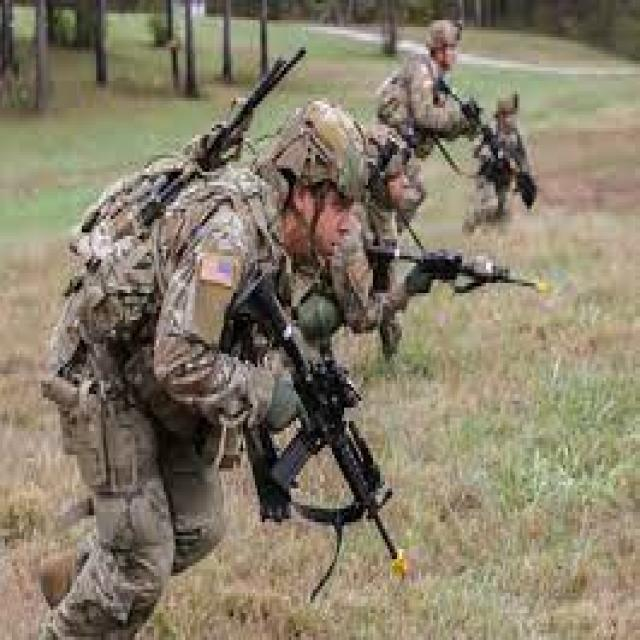m16: (200, 262, 416, 612)
